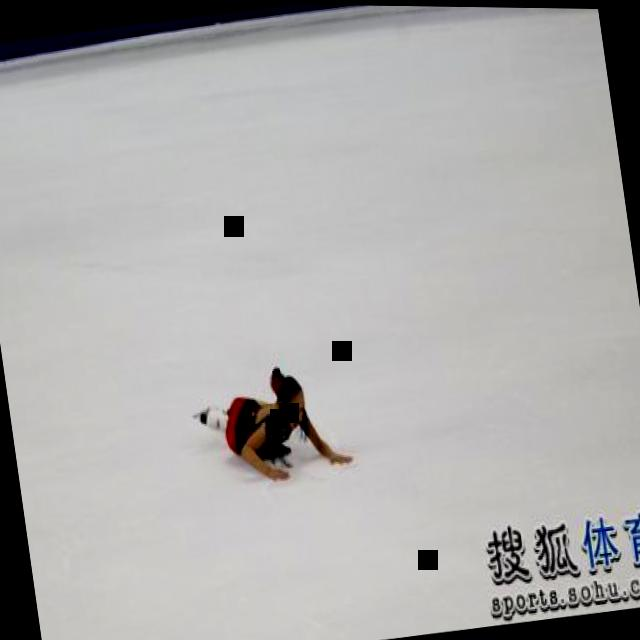Fall-Detected: (171, 331, 358, 500)
